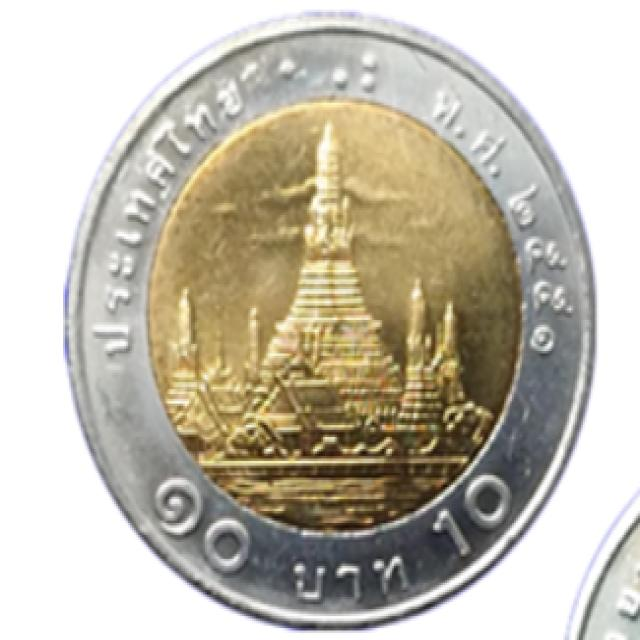10 Bath: (50, 3, 616, 639)
